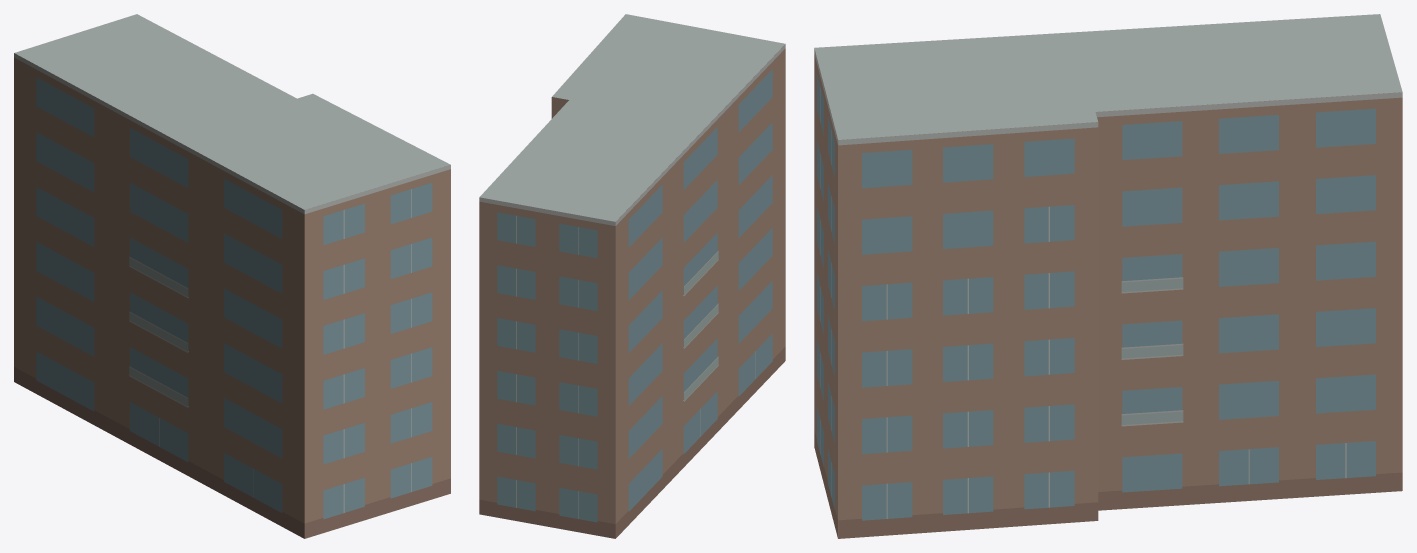
Rendered from survey-upis-32731711.glb.
3 renders of one model, left to right at view 1: azimuth 30°, elevation 25°; view 2: azimuth 150°, elevation 25°; view 3: azimuth 270°, elevation 25°, orthographic. The views are drawn at different scales.
Parts seen in each view (by area): view 1: survey-upis-32731711.tmp; view 2: survey-upis-32731711.tmp; view 3: survey-upis-32731711.tmp.
Part boxes in pixels (left/top/right/bottom): survey-upis-32731711.tmp: left=14, top=14, right=450, bottom=538; survey-upis-32731711.tmp: left=479, top=14, right=785, bottom=538; survey-upis-32731711.tmp: left=814, top=14, right=1402, bottom=538.
Bounding box in the file's own units: 12.28 × 18.1 × 24.21.
